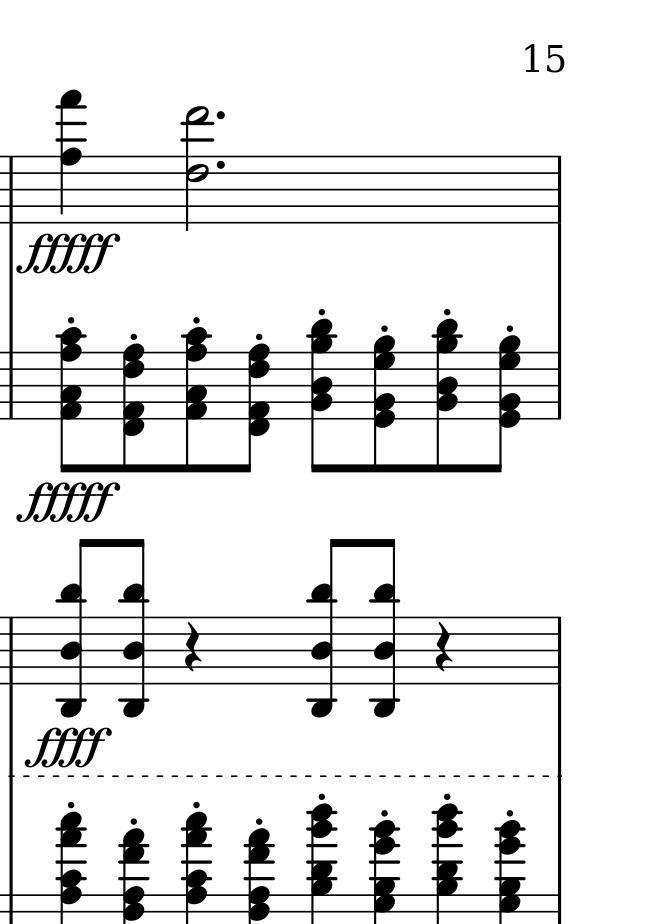1: (523, 39, 540, 75)
2_6_13: (180, 104, 212, 234)
5: (545, 39, 568, 74)
8_4th: (306, 318, 340, 476), (486, 333, 523, 473), (237, 341, 273, 475), (432, 317, 461, 473), (56, 325, 86, 475), (181, 327, 211, 475), (372, 335, 398, 474), (120, 341, 146, 473)
8_8_15: (56, 88, 89, 226)
8_th: (307, 537, 354, 720), (54, 536, 99, 717), (119, 536, 152, 718), (370, 536, 402, 718)
Rests4: (432, 620, 456, 675), (182, 621, 203, 675)
Single_barline: (550, 618, 567, 683), (551, 352, 567, 418), (551, 157, 567, 222), (4, 353, 19, 419), (4, 157, 18, 223), (4, 618, 18, 684)
dot: (214, 106, 226, 123), (214, 157, 227, 172)
ffff: (27, 722, 111, 771)
fffff: (14, 479, 124, 525), (16, 232, 123, 276)
